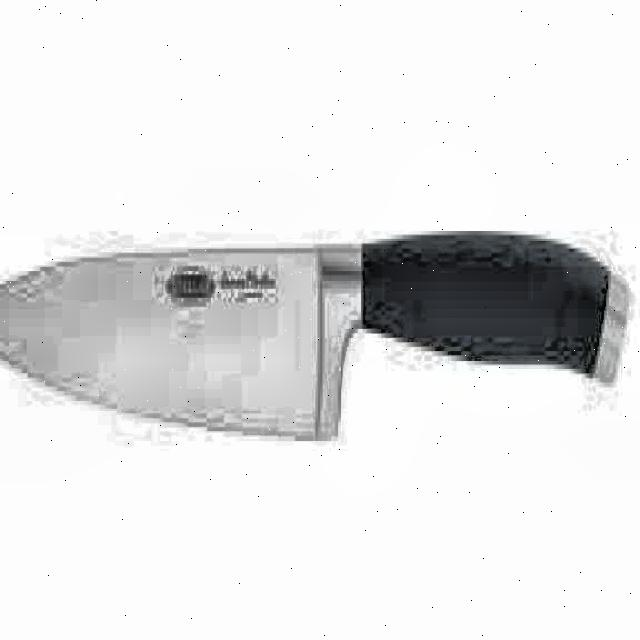knife: (0, 218, 632, 451)
